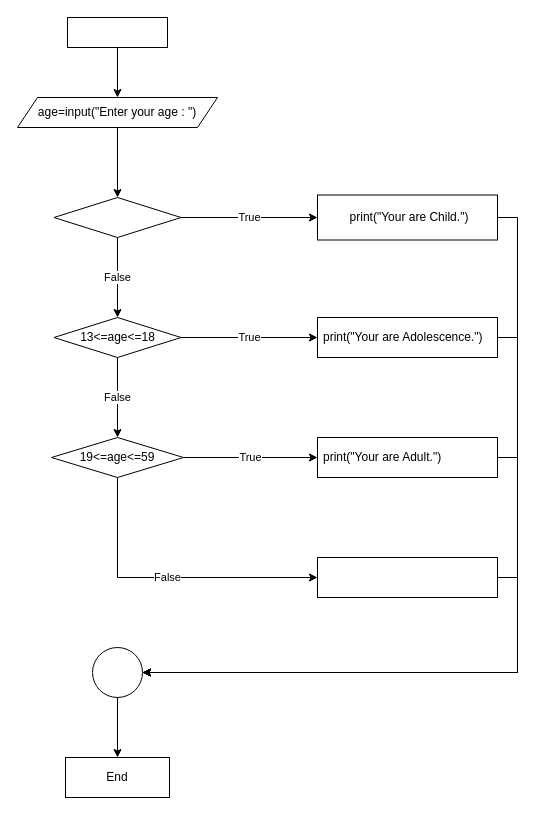
The diagram is 543 pixels wide and 815 high, and some of its shapes have lost their labels. Here are the shapes that lost their labels. From the top down, the centre of each, then its label:
(117,32): Start
(117,217): 0<age<=12
(407,577): print("Your are Senior Adult.")
